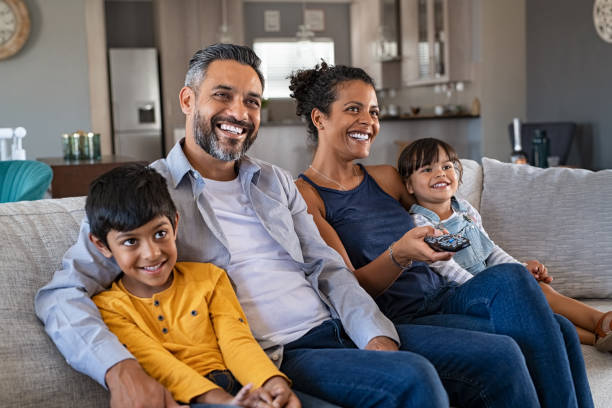without mask: (173, 52, 271, 161), (307, 84, 385, 159), (106, 217, 180, 285), (399, 138, 473, 206)
